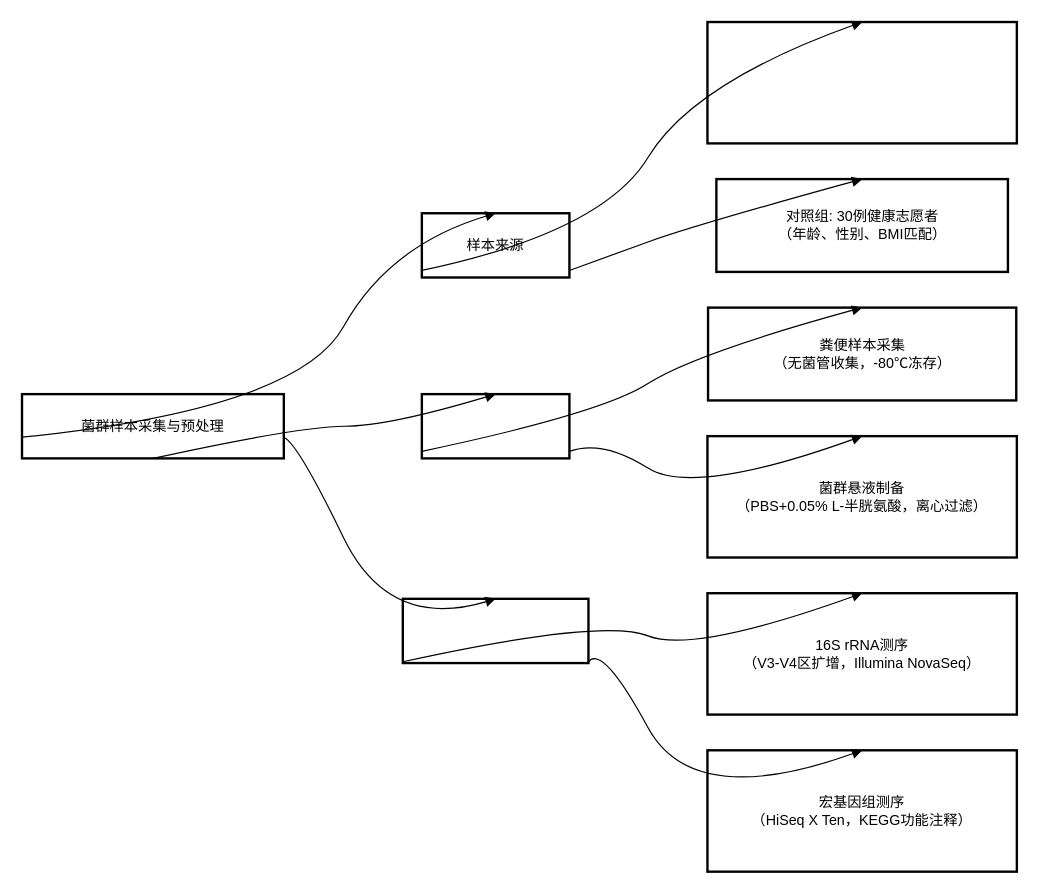
This 1038x894 diagram has some shape labels left out. The shapes that lost their labels are listed below. From the top down, each one's box as (x1, y1, x2, y2) in pixels, then its label:
(706, 20, 1017, 144): 患者组: 30例胆囊结石患者 （超声/CT确诊，排除代谢疾病）
(420, 392, 570, 459): 样本处理
(401, 597, 589, 664): 菌群特征分析
